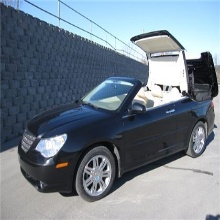no damage: (18, 75, 215, 202)
